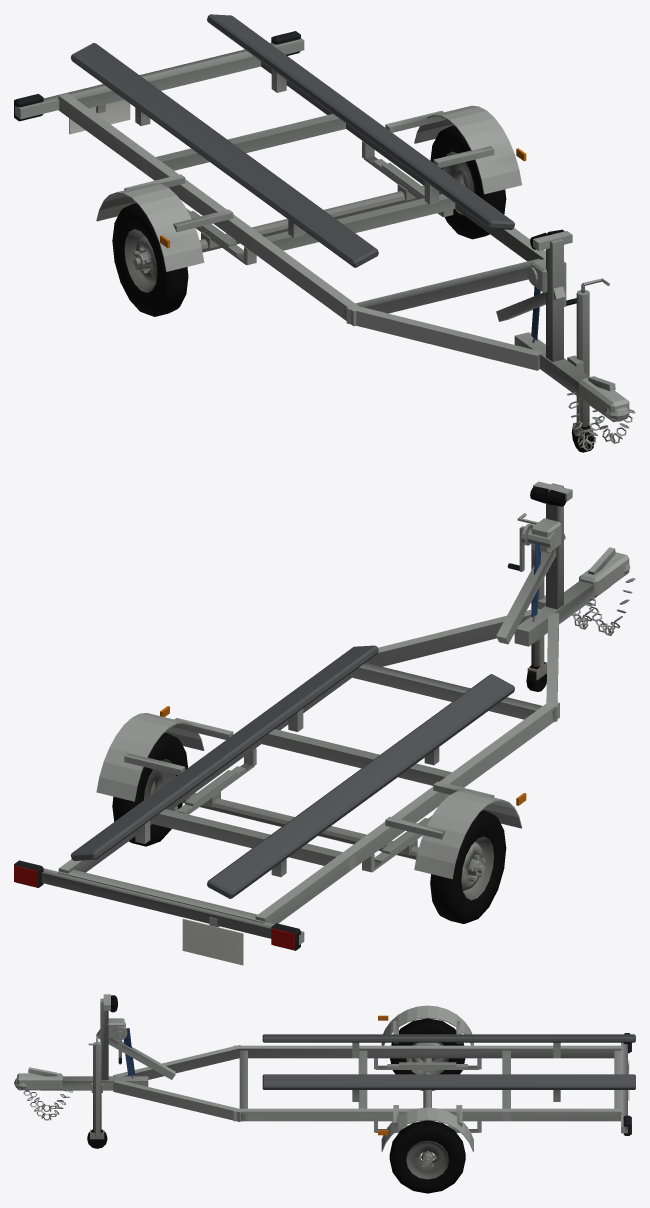
File: boat_trailer.glb
3 renders of one model, top to bottom at view 1: azimuth 30°, elevation 25°; view 2: azimuth 150°, elevation 25°; view 3: azimuth 270°, elevation 25°, orthographic. The views are drawn at different scales.
Parts seen in each view (by area): view 1: boat_trailer_frame_LOD0, boat_trailer_bunks_LOD0, boat_trailer_wheel_l_LOD0, boat_trailer_winch_LOD0, boat_trailer_hitch_LOD0, boat_trailer_lights_LOD0, boat_trailer_wheel_r_LOD0; view 2: boat_trailer_frame_LOD0, boat_trailer_bunks_LOD0, boat_trailer_lights_LOD0, boat_trailer_wheel_l_LOD0, boat_trailer_winch_LOD0, boat_trailer_hitch_LOD0, boat_trailer_wheel_r_LOD0; view 3: boat_trailer_frame_LOD0, boat_trailer_bunks_LOD0, boat_trailer_wheel_r_LOD0, boat_trailer_hitch_LOD0, boat_trailer_winch_LOD0, boat_trailer_wheel_l_LOD0, boat_trailer_lights_LOD0.
Boxes of the visible parts, x1=… form: boat_trailer_frame_LOD0: x1=57, y1=51, x2=596, y2=410; boat_trailer_bunks_LOD0: x1=70, y1=14, x2=514, y2=267; boat_trailer_wheel_l_LOD0: x1=112, y1=203, x2=188, y2=316; boat_trailer_winch_LOD0: x1=496, y1=229, x2=576, y2=361; boat_trailer_hitch_LOD0: x1=567, y1=278, x2=635, y2=450; boat_trailer_lights_LOD0: x1=14, y1=31, x2=304, y2=134; boat_trailer_wheel_r_LOD0: x1=430, y1=125, x2=506, y2=239; boat_trailer_frame_LOD0: x1=57, y1=581, x2=610, y2=924; boat_trailer_bunks_LOD0: x1=70, y1=645, x2=514, y2=898; boat_trailer_lights_LOD0: x1=14, y1=860, x2=304, y2=965; boat_trailer_wheel_l_LOD0: x1=430, y1=810, x2=506, y2=923; boat_trailer_winch_LOD0: x1=496, y1=481, x2=572, y2=644; boat_trailer_hitch_LOD0: x1=517, y1=513, x2=635, y2=680; boat_trailer_wheel_r_LOD0: x1=112, y1=732, x2=187, y2=846; boat_trailer_frame_LOD0: x1=41, y1=1005, x2=622, y2=1152; boat_trailer_bunks_LOD0: x1=262, y1=1034, x2=635, y2=1089; boat_trailer_wheel_r_LOD0: x1=389, y1=1120, x2=465, y2=1193; boat_trailer_hitch_LOD0: x1=14, y1=1037, x2=104, y2=1139; boat_trailer_winch_LOD0: x1=96, y1=994, x2=175, y2=1080; boat_trailer_wheel_l_LOD0: x1=390, y1=1018, x2=465, y2=1090; boat_trailer_lights_LOD0: x1=621, y1=1033, x2=631, y2=1135.
Size of what is drawn, in the model's own units: 1.9 by 1.08 by 4.33.
